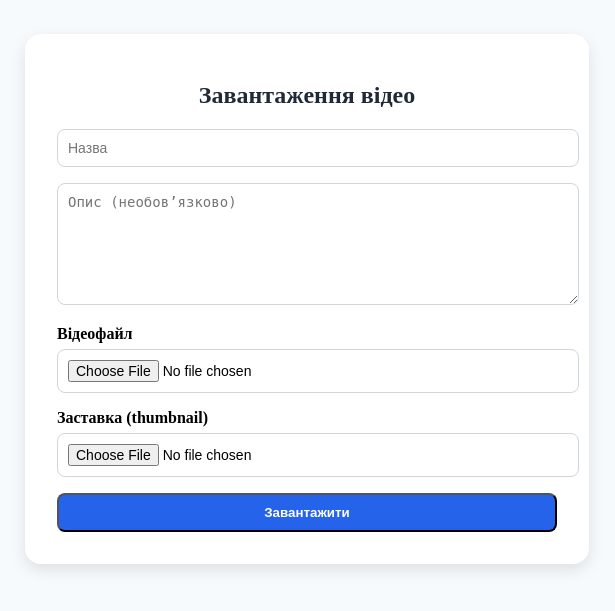
Test case: UploadPage › показує помилку, якщо не заповнені обов’язкові поля
What coordinates should you click on to do the following:
click the button "Завантажити"
I would click on:
 (307, 512)
Its box is [57,493,557,532].
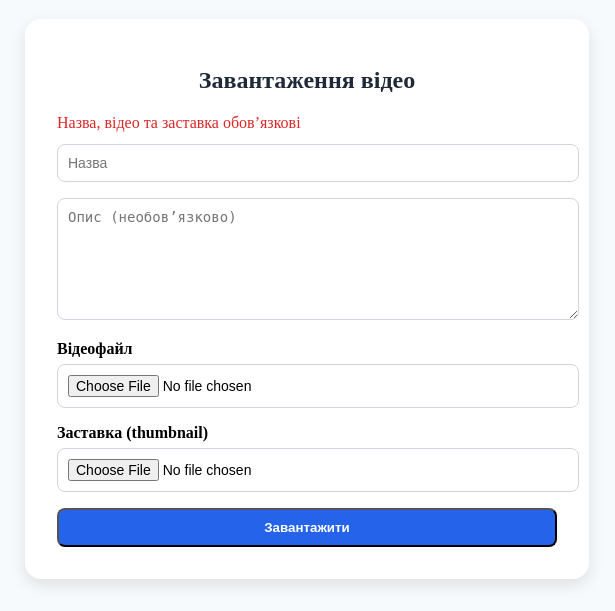
Result: the text "Назва, відео та заставка обов’язкові" is shown at [57,114,301,131]
